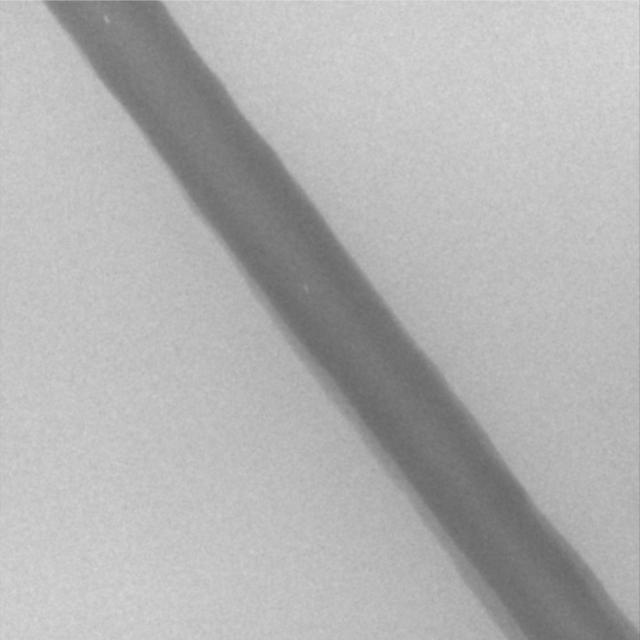air hole: (102, 13, 109, 24), (303, 283, 310, 294)
